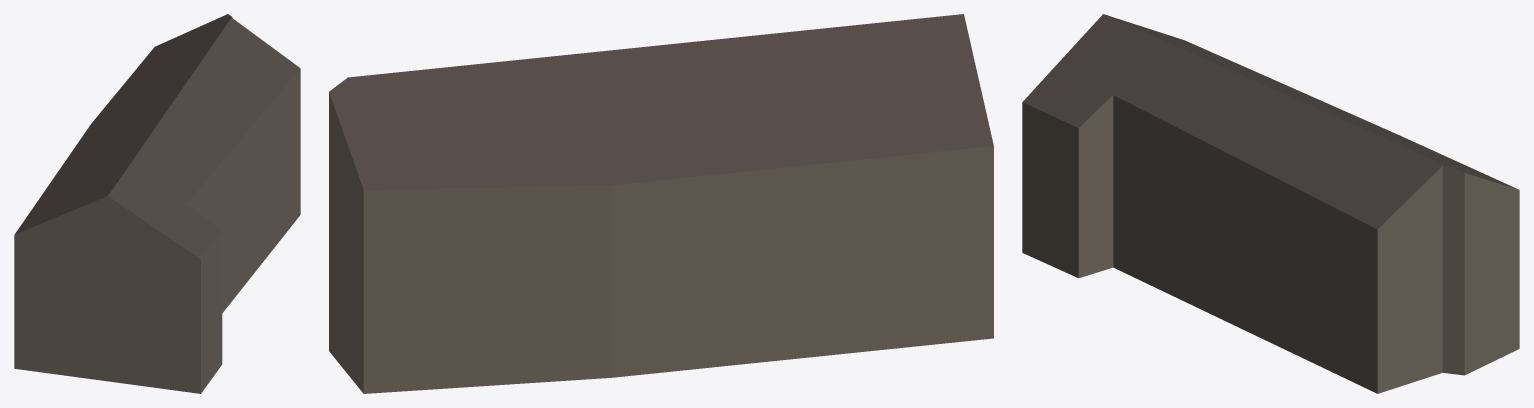
3 renders of one model, left to right at view 1: azimuth 30°, elevation 25°; view 2: azimuth 150°, elevation 25°; view 3: azimuth 270°, elevation 25°, orthographic. The views are drawn at different scales.
Parts seen in each view (by area): view 1: HP-w1515076935; view 2: HP-w1515076935; view 3: HP-w1515076935.
Boxes of the visible parts, bbox=[...] form: HP-w1515076935: bbox=[14, 14, 300, 393]; HP-w1515076935: bbox=[329, 14, 993, 393]; HP-w1515076935: bbox=[1022, 14, 1519, 393].
Size of the model in its own units: 26.15 by 12.45 by 27.
